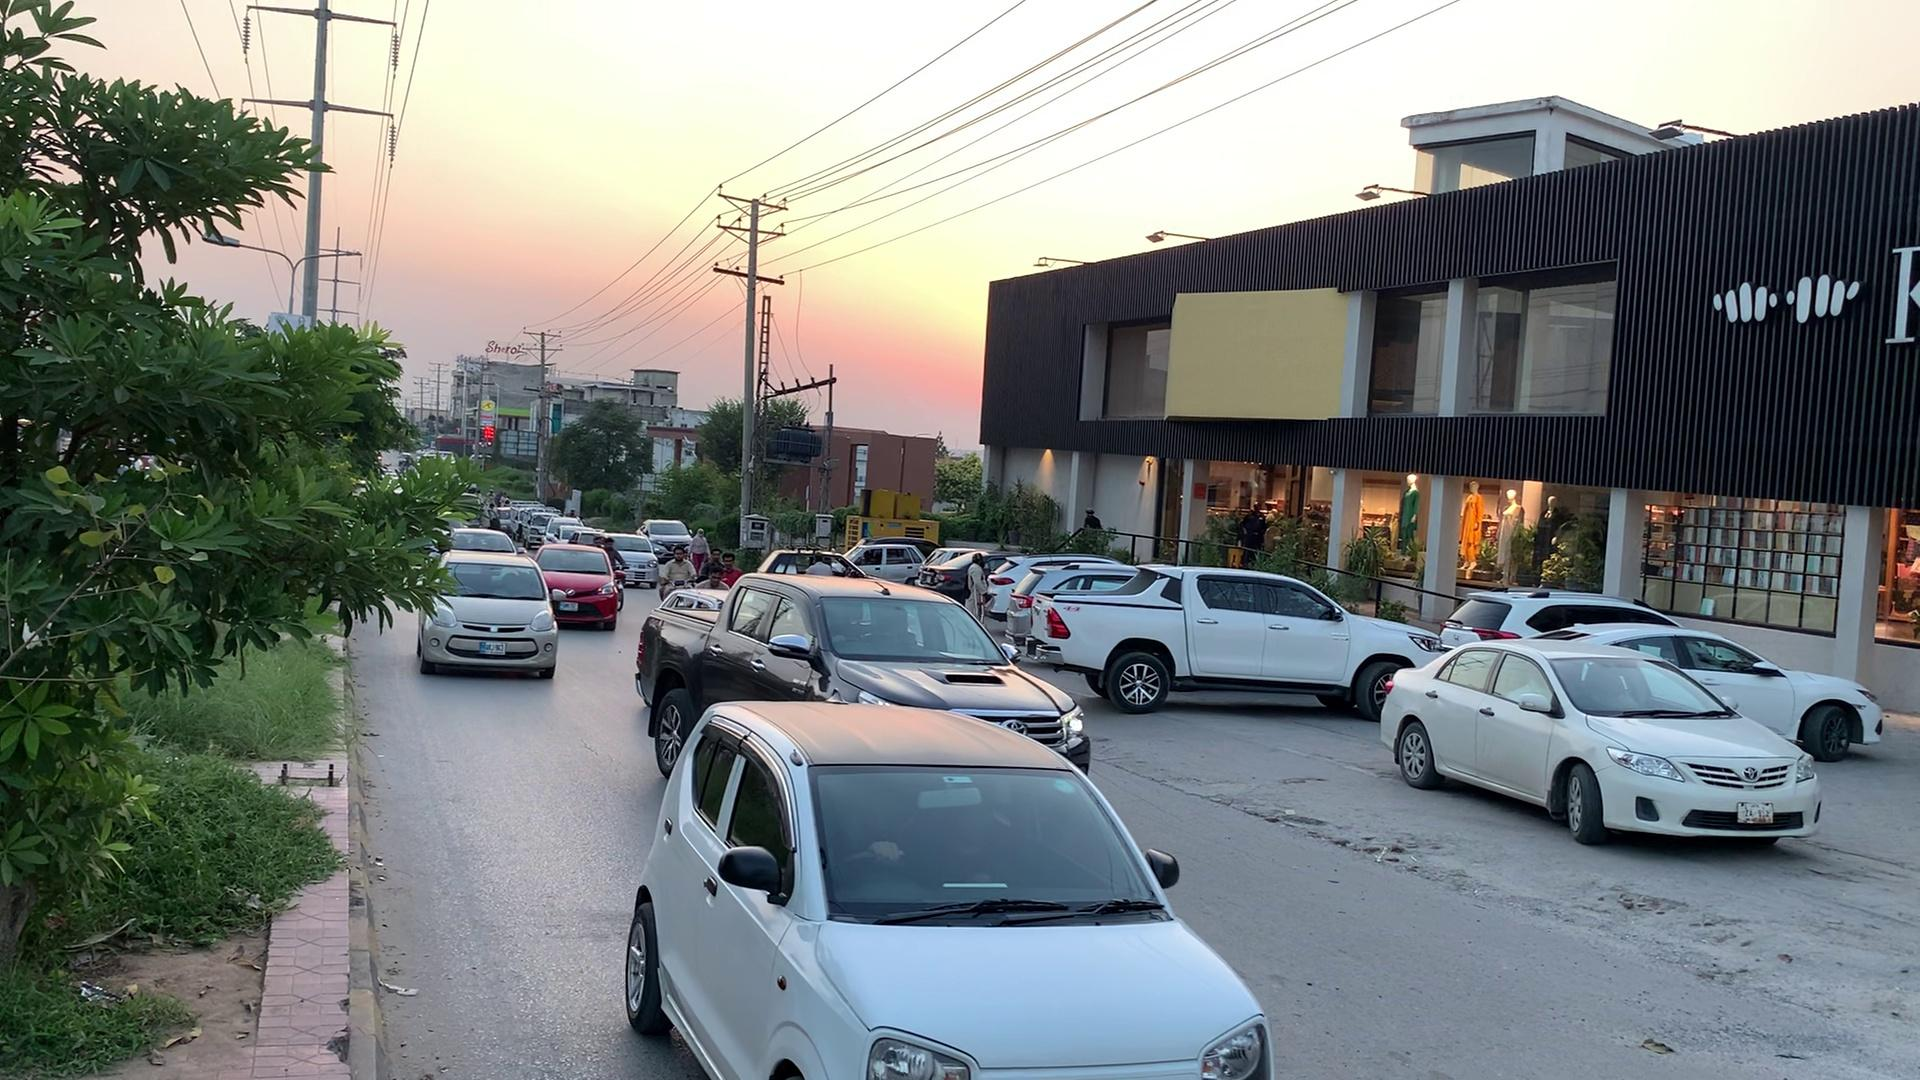windshield: (798, 750, 1171, 934)
